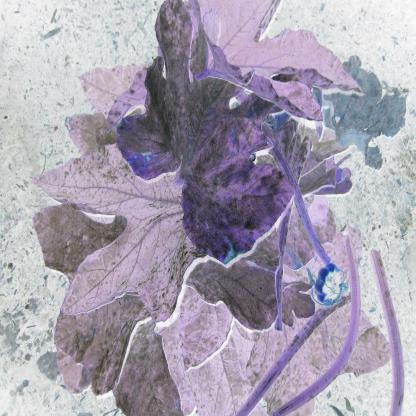squash powdery mildew leaf: (108, 0, 307, 266), (56, 252, 170, 416), (184, 223, 320, 329), (33, 197, 144, 295)
